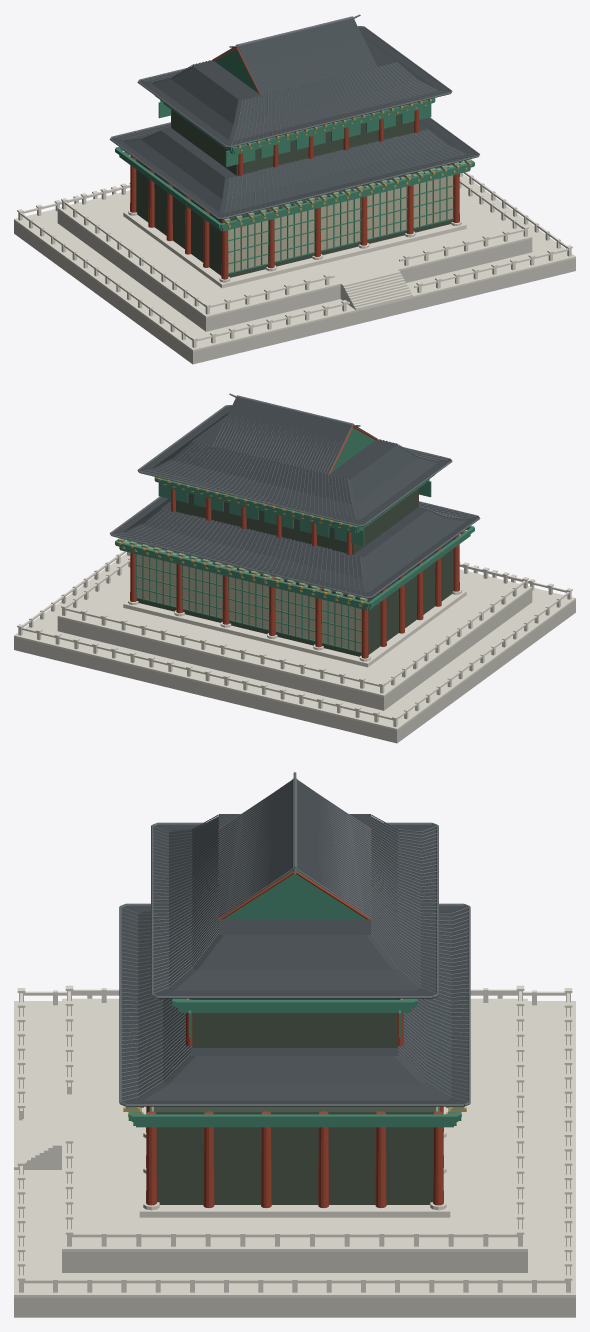
Rendered from gyeongbokgung.glb.
The picture shows the model from 3 angles, top to bottom: view 1: azimuth 30°, elevation 25°; view 2: azimuth 150°, elevation 25°; view 3: azimuth 270°, elevation 25°; orthographic projection. The views are drawn at different scales.
Visible parts, largest first — view 1: gyeongbokgung_root_Palace_Charcoal_Roof_Tiles, gyeongbokgung_root_Palace_Granite_Capstones, gyeongbokgung_root_Palace_Granite, gyeongbokgung_root_Palace_Dancheong_Green, gyeongbokgung_root_Palace_Raised_Tile_Seams, gyeongbokgung_root_Palace_Window_Paper, gyeongbokgung_root_Palace_Door_Shadow, gyeongbokgung_root_Palace_Vermilion_Columns, gyeongbokgung_root_Palace_Dancheong_Ochre, gyeongbokgung_root_Palace_Dancheong_Jade; view 2: gyeongbokgung_root_Palace_Charcoal_Roof_Tiles, gyeongbokgung_root_Palace_Granite_Capstones, gyeongbokgung_root_Palace_Granite, gyeongbokgung_root_Palace_Dancheong_Green, gyeongbokgung_root_Palace_Raised_Tile_Seams, gyeongbokgung_root_Palace_Window_Paper, gyeongbokgung_root_Palace_Door_Shadow, gyeongbokgung_root_Palace_Vermilion_Columns, gyeongbokgung_root_Palace_Dancheong_Ochre, gyeongbokgung_root_Palace_Dancheong_Jade; view 3: gyeongbokgung_root_Palace_Granite_Capstones, gyeongbokgung_root_Palace_Charcoal_Roof_Tiles, gyeongbokgung_root_Palace_Raised_Tile_Seams, gyeongbokgung_root_Palace_Door_Shadow, gyeongbokgung_root_Palace_Granite, gyeongbokgung_root_Palace_Dancheong_Green, gyeongbokgung_root_Palace_Vermilion_Columns.
Part boxes in pixels (<box>): gyeongbokgung_root_Palace_Charcoal_Roof_Tiles: <box>112,18,478,217</box>; gyeongbokgung_root_Palace_Granite_Capstones: <box>14,172,575,351</box>; gyeongbokgung_root_Palace_Granite: <box>14,210,575,364</box>; gyeongbokgung_root_Palace_Dancheong_Green: <box>115,45,474,274</box>; gyeongbokgung_root_Palace_Raised_Tile_Seams: <box>109,14,479,219</box>; gyeongbokgung_root_Palace_Window_Paper: <box>228,175,452,272</box>; gyeongbokgung_root_Palace_Door_Shadow: <box>136,110,452,277</box>; gyeongbokgung_root_Palace_Vermilion_Columns: <box>130,47,459,279</box>; gyeongbokgung_root_Palace_Dancheong_Ochre: <box>124,99,471,227</box>; gyeongbokgung_root_Palace_Dancheong_Jade: <box>222,159,472,222</box>; gyeongbokgung_root_Palace_Charcoal_Roof_Tiles: <box>111,397,477,596</box>; gyeongbokgung_root_Palace_Granite_Capstones: <box>14,551,575,730</box>; gyeongbokgung_root_Palace_Granite: <box>14,589,575,743</box>; gyeongbokgung_root_Palace_Dancheong_Green: <box>115,424,474,653</box>; gyeongbokgung_root_Palace_Raised_Tile_Seams: <box>110,393,480,598</box>; gyeongbokgung_root_Palace_Window_Paper: <box>137,554,361,651</box>; gyeongbokgung_root_Palace_Door_Shadow: <box>137,489,453,656</box>; gyeongbokgung_root_Palace_Vermilion_Columns: <box>130,426,459,658</box>; gyeongbokgung_root_Palace_Dancheong_Ochre: <box>118,478,465,606</box>; gyeongbokgung_root_Palace_Dancheong_Jade: <box>117,538,367,601</box>; gyeongbokgung_root_Palace_Granite_Capstones: <box>14,985,575,1297</box>; gyeongbokgung_root_Palace_Charcoal_Roof_Tiles: <box>122,780,467,1103</box>; gyeongbokgung_root_Palace_Raised_Tile_Seams: <box>119,772,470,1106</box>; gyeongbokgung_root_Palace_Door_Shadow: <box>153,998,436,1204</box>; gyeongbokgung_root_Palace_Granite: <box>14,1251,575,1317</box>; gyeongbokgung_root_Palace_Dancheong_Green: <box>128,867,461,1127</box>; gyeongbokgung_root_Palace_Vermilion_Columns: <box>146,827,443,1208</box>.
Size of the model in its own units: 47 by 26 by 38.
